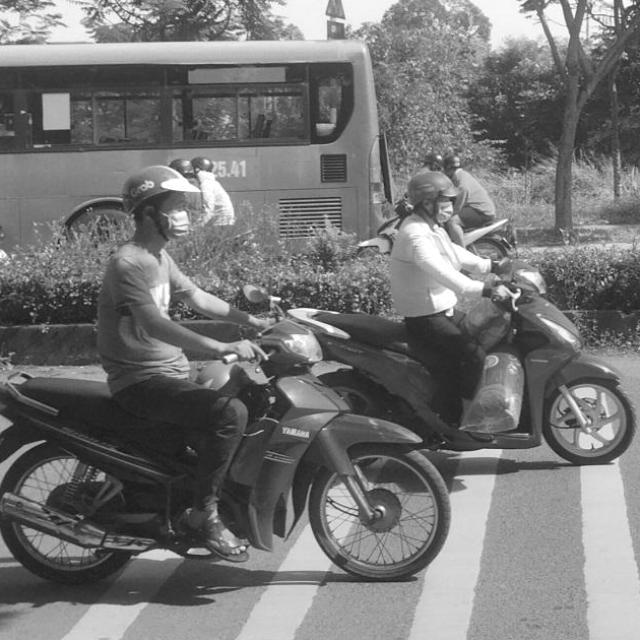Helmet: (121, 165, 194, 243), (405, 168, 458, 226)
